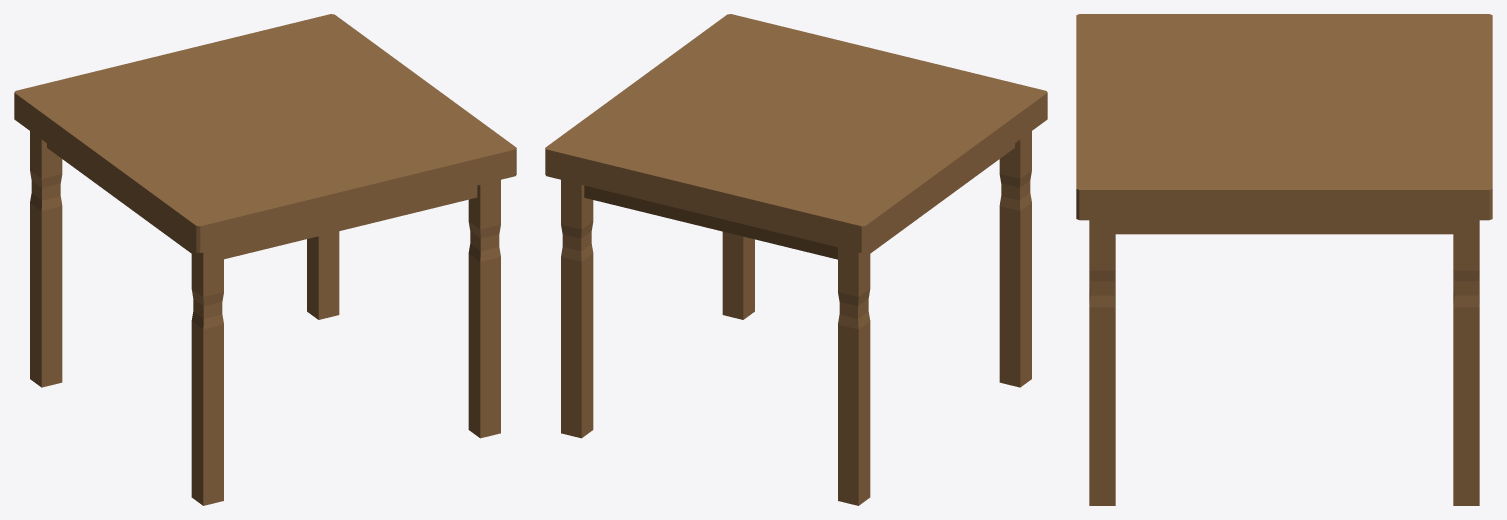
File: R_Table_Small.fbx
3 renders of one model, left to right at view 1: azimuth 30°, elevation 25°; view 2: azimuth 150°, elevation 25°; view 3: azimuth 270°, elevation 25°, orthographic. The views are drawn at different scales.
Visible parts, largest first — view 1: R_Table_Small; view 2: R_Table_Small; view 3: R_Table_Small.
Part boxes in pixels (<box>): R_Table_Small: <box>14,14,516,505</box>; R_Table_Small: <box>545,14,1047,505</box>; R_Table_Small: <box>1076,14,1492,505</box>.
Size of the model in its own units: 779 by 779 by 665.
